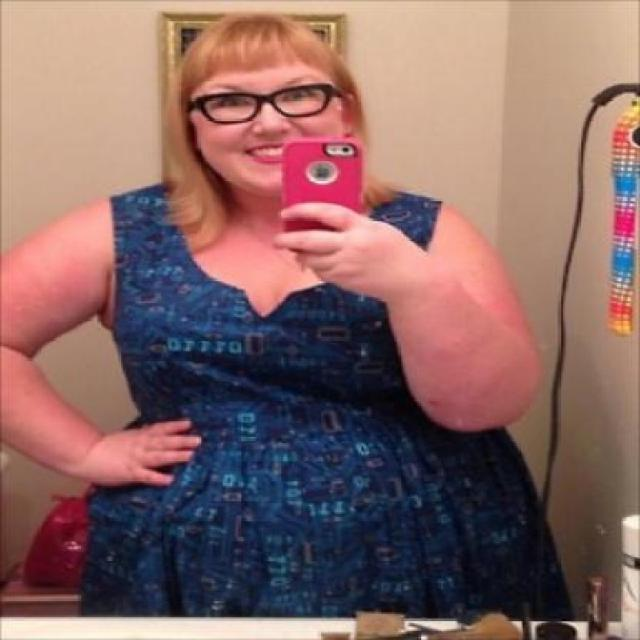phone: (276, 139, 364, 250)
